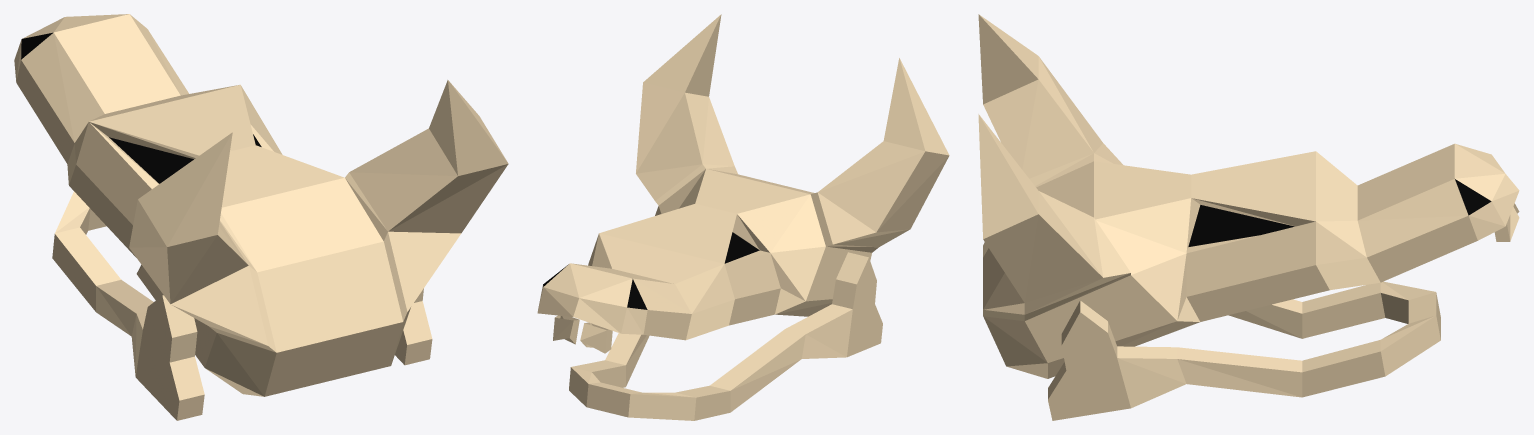
The model's file is animalskull.obj.
The picture shows the model from 3 angles, left to right: view 1: azimuth 30°, elevation 25°; view 2: azimuth 150°, elevation 25°; view 3: azimuth 270°, elevation 25°; orthographic projection. The views are drawn at different scales.
Visible parts, largest first — view 1: animalskull_back; view 2: animalskull_back; view 3: animalskull_back.
Boxes of the visible parts, x1,y1,x2,y2 form: animalskull_back: [14, 14, 508, 420]; animalskull_back: [537, 14, 949, 420]; animalskull_back: [978, 14, 1519, 420].
Size of the model in its own units: 0.81 by 0.71 by 1.17.
